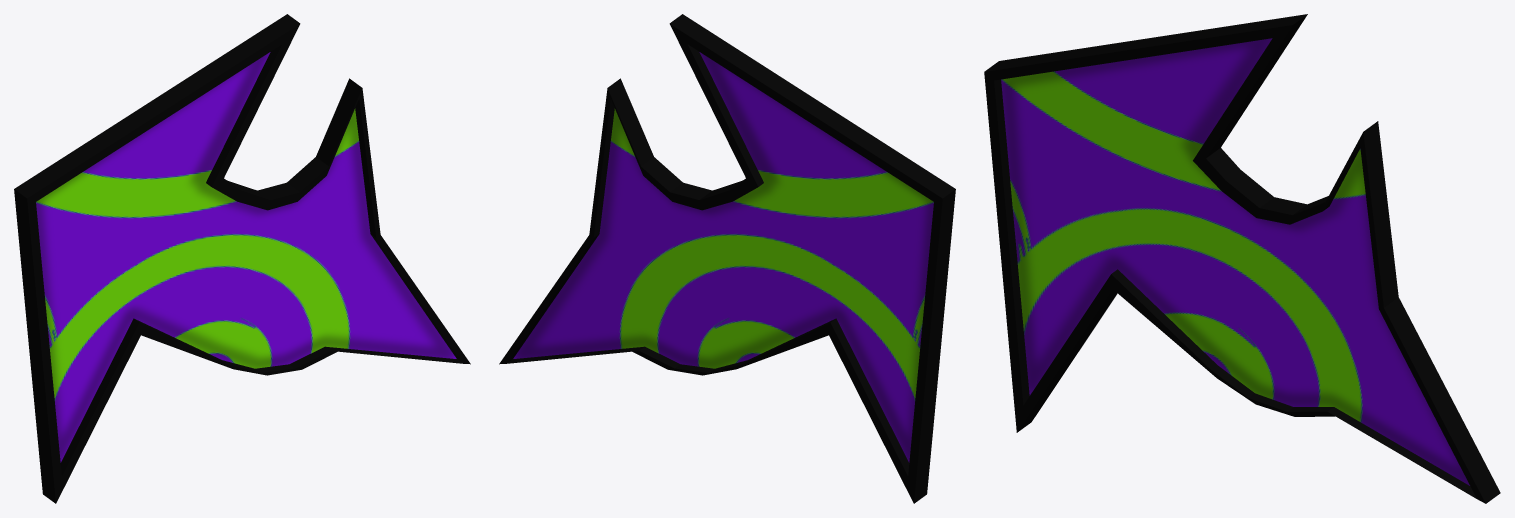
Rendered from MOD_Arrow1.FBX.
3 renders of one model, left to right at view 1: azimuth 30°, elevation 25°; view 2: azimuth 150°, elevation 25°; view 3: azimuth 330°, elevation 25°, orthographic. The views are drawn at different scales.
Parts seen in each view (by area): view 1: MOD_Arrow1; view 2: MOD_Arrow1; view 3: MOD_Arrow1.
Boxes of the visible parts, x1,y1,x2,y2 form: MOD_Arrow1: [14, 14, 470, 503]; MOD_Arrow1: [499, 14, 955, 503]; MOD_Arrow1: [984, 14, 1500, 503].
Bounding box in the file's own units: 83.96 × 76.06 × 4.3.
1 material, 1 textured.
